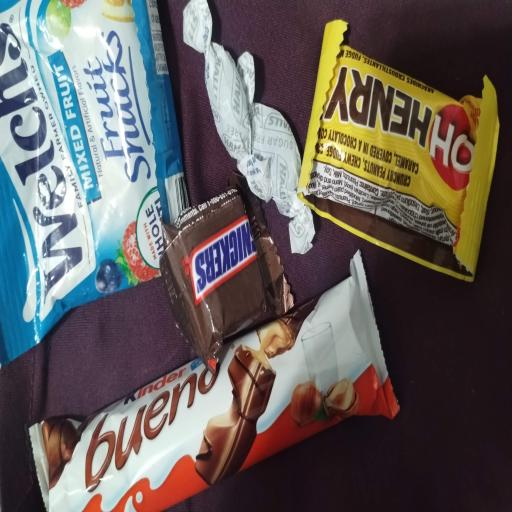chocolate: (30, 252, 398, 511), (0, 0, 187, 364), (299, 21, 499, 280), (161, 174, 292, 373), (238, 43, 316, 253), (172, 0, 258, 174)
